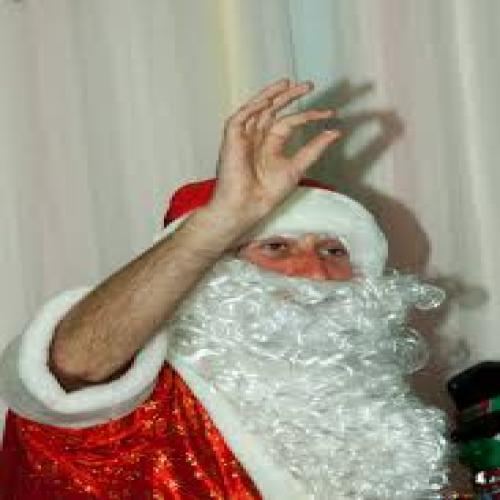Santa: (0, 78, 461, 500)
